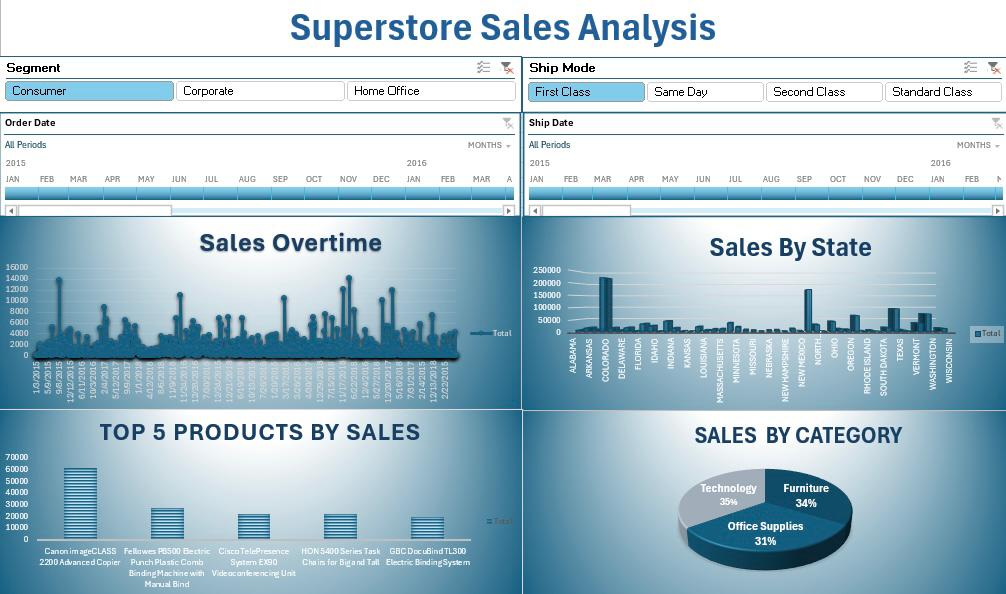

The page's visual inventory and layout, read from the dashboard file:
{"tool":"tableau","page":{"name":"Dashboard 1","canvas":[1000,1000],"units":"permille","ordinal":0},"visuals":[{"type":"text","box":[2.6,5.1,995.6,74]},{"type":"worksheet","title":"Sheet 9","mark":"Automatic","box":[463.2,84.2,247.4,107.1]},{"type":"worksheet","title":"Sheet 7","mark":"Automatic","rows":["Job_Title"],"box":[2.6,84.7,225.4,107.1]},{"type":"worksheet","title":"Sheet 10","mark":"Automatic","box":[230.5,84.7,230.5,106.6]},{"type":"worksheet","title":"Sheet 1","mark":"Automatic","rows":["Job_Title"],"cols":["Salary_USD"],"box":[130.9,196.9,579,241.3]},{"type":"filter","title":"Sheet 1","param":"[federated.0s2ll8v0tmgorc14xyzzq08kerk0].[none:Job_Title:nk]","box":[2.2,197.5,125.4,192.3]},{"type":"filter","title":"Sheet 1","param":"[federated.0s2ll8v0tmgorc14xyzzq08kerk0].[none:Industry:nk]","box":[1.8,368.4,126.1,146.9]},{"type":"worksheet","title":"Sheet 3","mark":"Automatic","rows":["Calculation_708472579790929922"],"cols":["Automation_Risk","Job_Title"],"box":[130.9,441.3,352.6,252]},{"type":"worksheet","title":"Sheet 2","mark":"Automatic","box":[487.1,441.8,510.3,267.4]},{"type":"filter","title":"Sheet 1","param":"[federated.0s2ll8v0tmgorc14xyzzq08kerk0].[none:Job_Category:nk]","box":[1.8,516.8,126.1,118.4]},{"type":"filter","title":"Sheet 6","param":"[federated.0s2ll8v0tmgorc14xyzzq08kerk0].[none:Job_Growth_Projection:nk]","box":[1.8,636.2,126.1,60.2]},{"type":"worksheet","title":"Sheet 11","mark":"Automatic","rows":["AI_Adoption_Level"],"cols":["Job_Title"],"box":[1.8,699,240.8,301.5]},{"type":"worksheet","title":"Sheet 4","mark":"Pie","box":[245.6,699.5,237.5,300.5]},{"type":"worksheet","title":"Sheet 6","mark":"Bar","rows":["Required_Skills"],"cols":["Job_Growth_Projection"],"box":[485.7,714.8,511,285.2]}]}

Visuals, with their boxes on the dashboard's canvas, which has no fixed pixel size, in thousandths of its width and height (x1, y1, x2, y2). These are canvas units, not pixel positions in the 1006x594 screenshot, which may show the page scaled, cropped or inside an application window:
text: (left=3, top=5, right=998, bottom=79)
"Sheet 9" worksheet: (left=463, top=84, right=711, bottom=191)
"Sheet 7" worksheet: (left=3, top=85, right=228, bottom=192)
"Sheet 10" worksheet: (left=230, top=85, right=461, bottom=191)
"Sheet 1" worksheet: (left=131, top=197, right=710, bottom=438)
"Sheet 1" filter: (left=2, top=198, right=128, bottom=390)
"Sheet 1" filter: (left=2, top=368, right=128, bottom=515)
"Sheet 3" worksheet: (left=131, top=441, right=484, bottom=693)
"Sheet 2" worksheet: (left=487, top=442, right=997, bottom=709)
"Sheet 1" filter: (left=2, top=517, right=128, bottom=635)
"Sheet 6" filter: (left=2, top=636, right=128, bottom=696)
"Sheet 11" worksheet: (left=2, top=699, right=243, bottom=1000)
"Sheet 4" worksheet (Pie marks): (left=246, top=700, right=483, bottom=1000)
"Sheet 6" worksheet (Bar marks): (left=486, top=715, right=997, bottom=1000)
